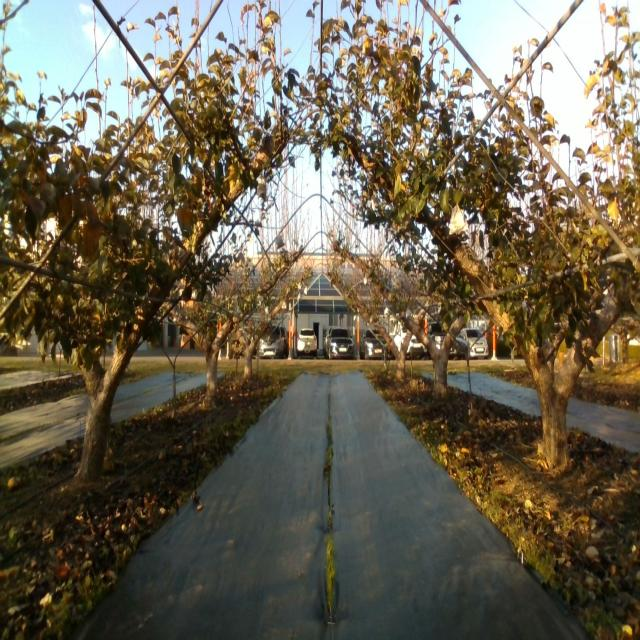pearbags: (447, 205, 468, 235), (256, 177, 267, 200)
